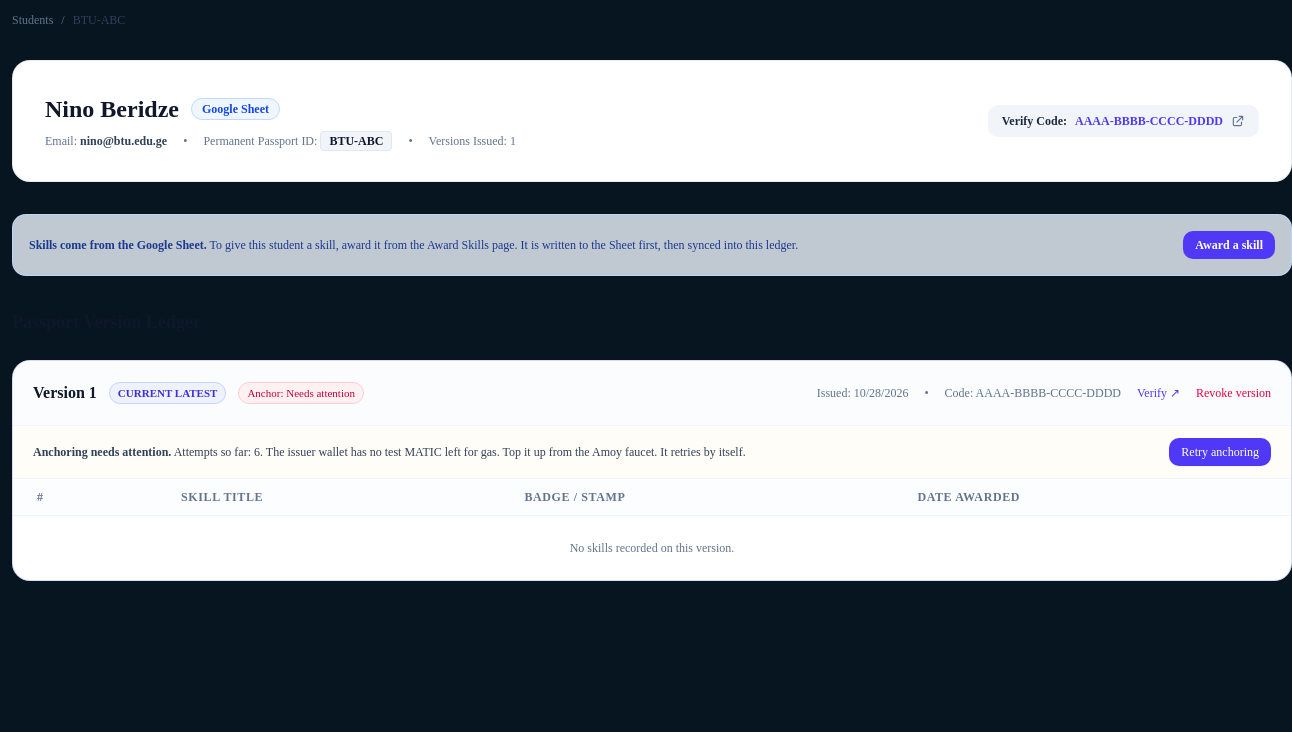
Test case: admin student detail anchoring › explains a failed anchor and retries it
Check: the element with test id "anchor-detail" shows "Anchoring needs attention", box [33,445,171,459]
Check: the element with test id "anchor-detail" shows "Attempts so far: 6", box [13,426,1291,479]
Click the button "Retry anchoring" at (1220, 452), box [1169,438,1271,466]
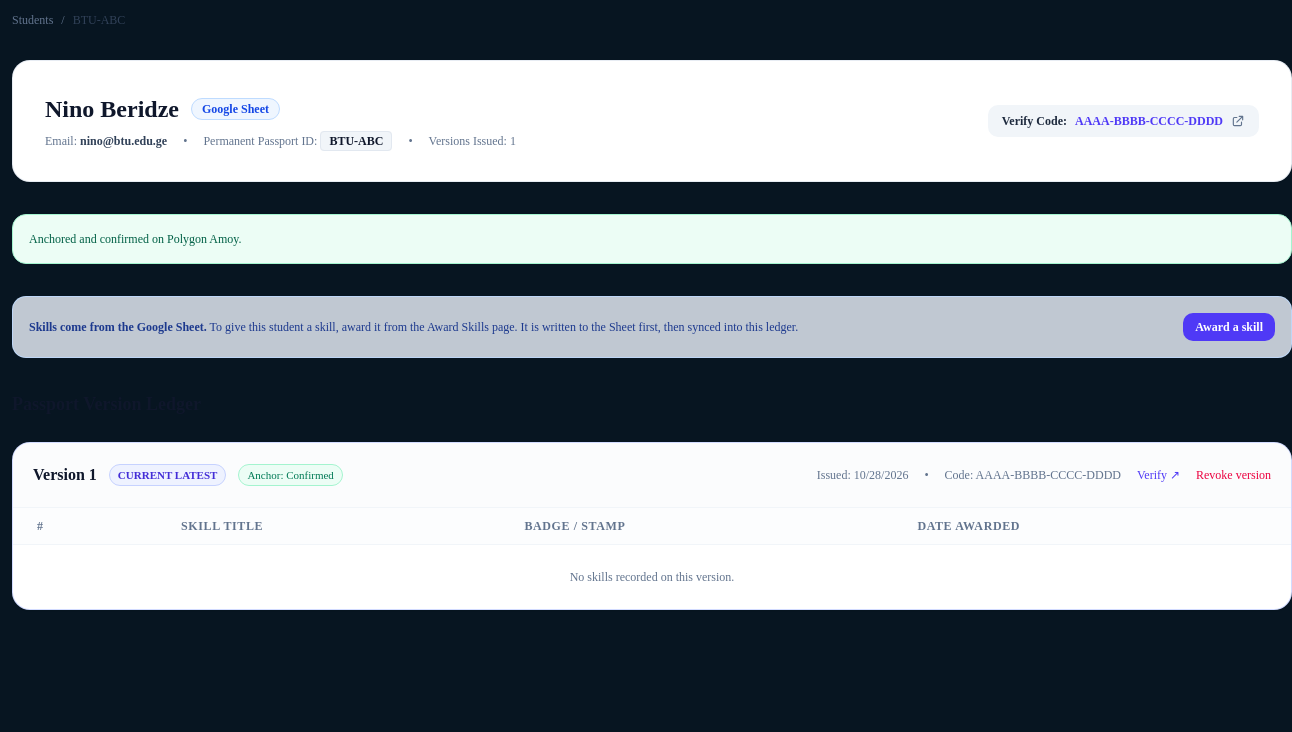
Check: the message with test id "anchor-notice" shows "Anchored and confirmed", box [29,232,242,246]
Check: the element with test id "anchor-detail" is gone
